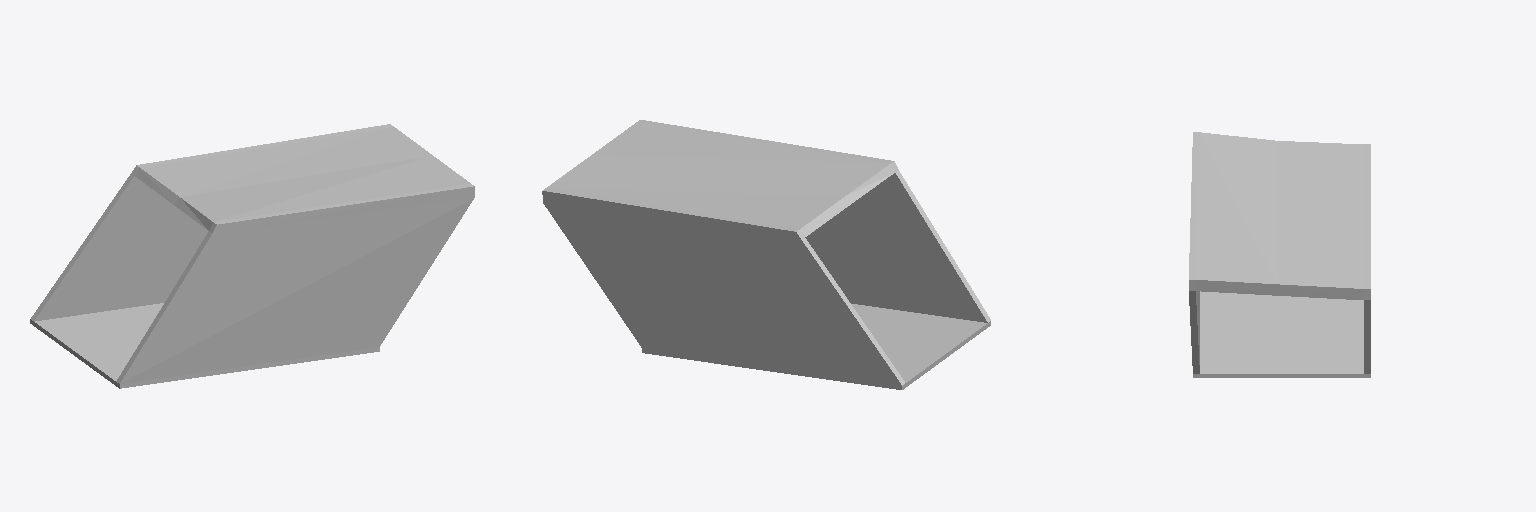
Rendered from Tube_to_City.obj.
3 views of the same model, side by side, from view 1: azimuth 30°, elevation 25°; view 2: azimuth 150°, elevation 25°; view 3: azimuth 270°, elevation 25° (orthographic).
Parts seen in each view (by area): view 1: Tube_to_City; view 2: Tube_to_City; view 3: Tube_to_City.
Boxes of the visible parts, box(x1,y1,x2,y2) form: Tube_to_City: box(30, 124, 474, 388); Tube_to_City: box(542, 120, 990, 389); Tube_to_City: box(1189, 132, 1370, 377).
Bounding box in the file's own units: 16.31 × 7.22 × 7.16.